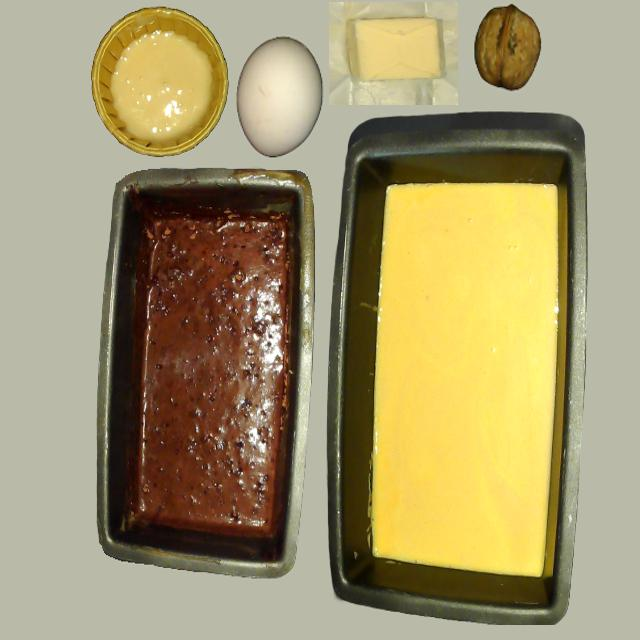Walnut: (462, 0, 549, 98)
